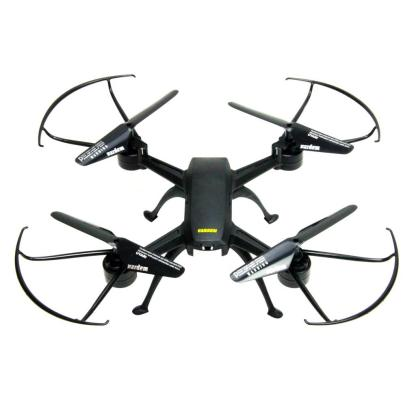drone: (15, 73, 411, 341)
